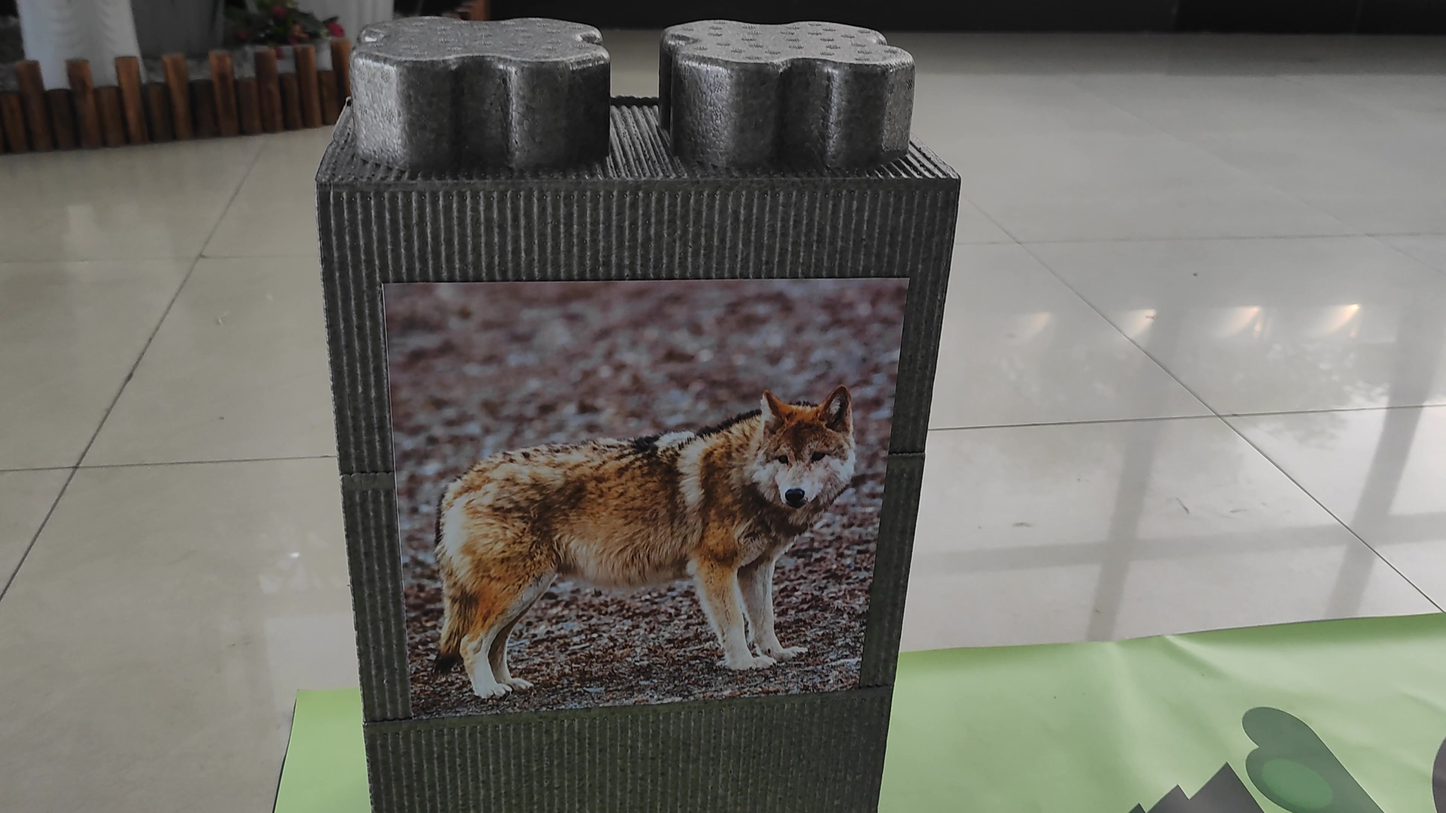wolf: (380, 322, 874, 694)
